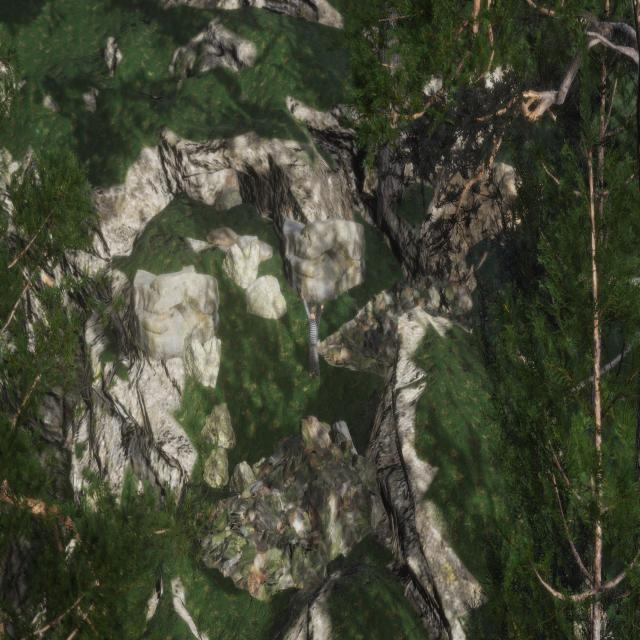Human: (295, 276, 328, 389)
